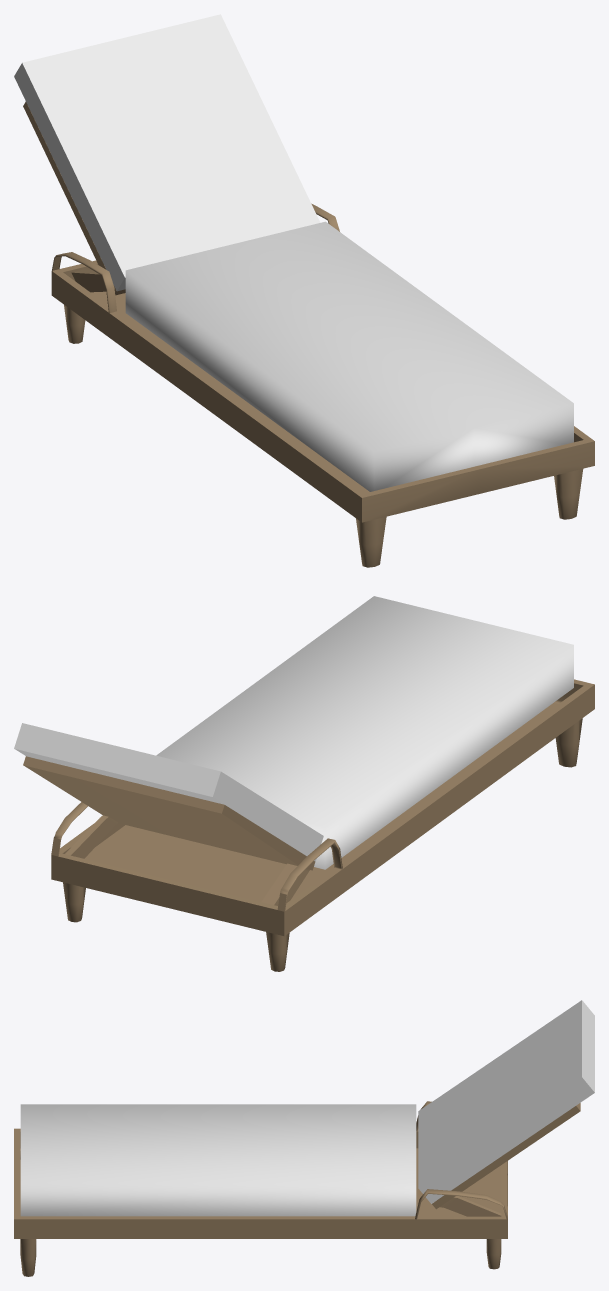
File: sunbed.fbx
3 renders of one model, top to bottom at view 1: azimuth 30°, elevation 25°; view 2: azimuth 150°, elevation 25°; view 3: azimuth 270°, elevation 25°, orthographic. The views are drawn at different scales.
Parts seen in each view (by area): view 1: polySurface1, polySurface3, polySurface4; view 2: polySurface1, polySurface4, polySurface3; view 3: polySurface1, polySurface3, polySurface4.
Boxes of the visible parts, box(x1,y1,x2,y2) form: polySurface1: box(125, 221, 573, 491); polySurface3: box(14, 14, 320, 291); polySurface4: box(23, 101, 594, 567); polySurface1: box(156, 596, 573, 869); polySurface4: box(23, 679, 594, 971); polySurface3: box(14, 723, 323, 861); polySurface1: box(20, 1104, 416, 1216); polySurface3: box(418, 1000, 594, 1203); polySurface4: box(14, 1101, 580, 1276).
Size of the model in its own units: 9.91 by 10.05 by 26.87.
